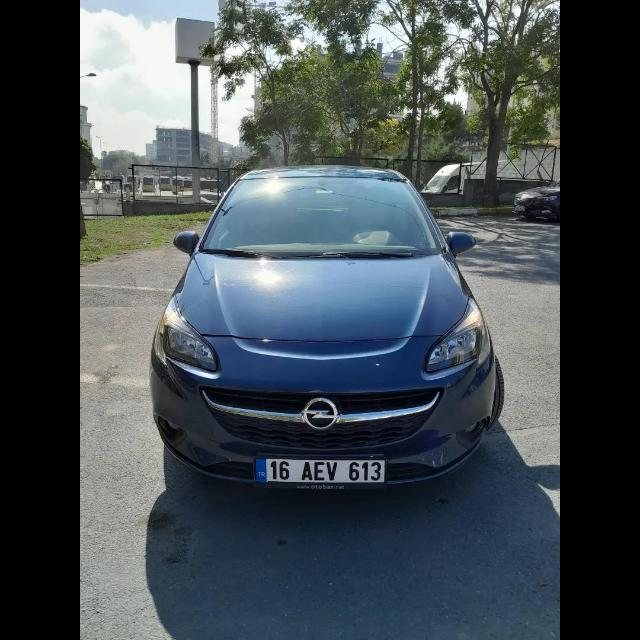Plaka: (256, 460, 388, 486)
